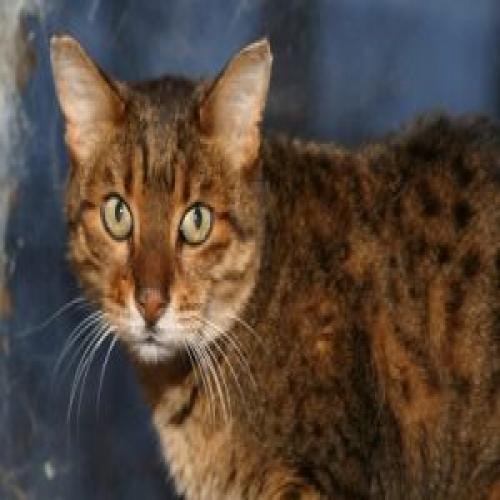bengal: (43, 29, 286, 383)
